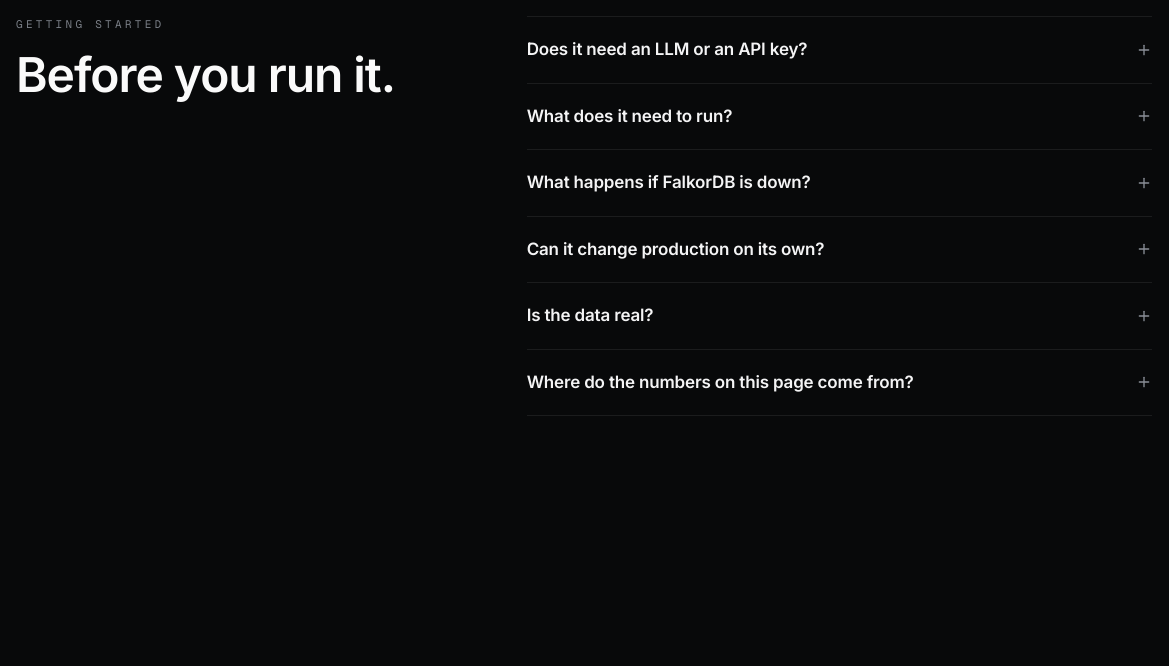
Faq › toggles each answer independently with aria-expanded, and labels each region by its question
Expected: the heading "Before you run it." is shown, [16, 44, 395, 104]
Step 1. Click the button "What does it need to run?" → {"x": 629, "y": 116}, box [527, 84, 1152, 149]
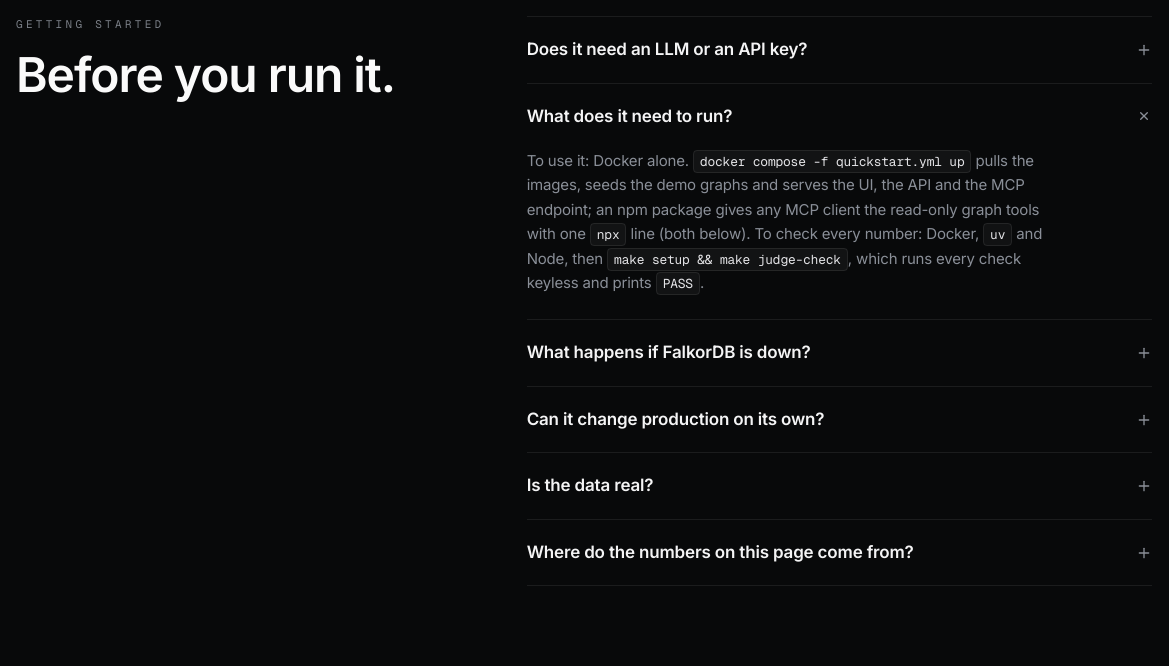
Result: the button "What does it need to run?" is expanded at [527, 84, 1152, 149]
Result: the element named "What does it need to run?" is shown at [527, 150, 1042, 295]
Step 2. Click the button "Is the data real?" → {"x": 590, "y": 485}, box [527, 453, 1152, 519]
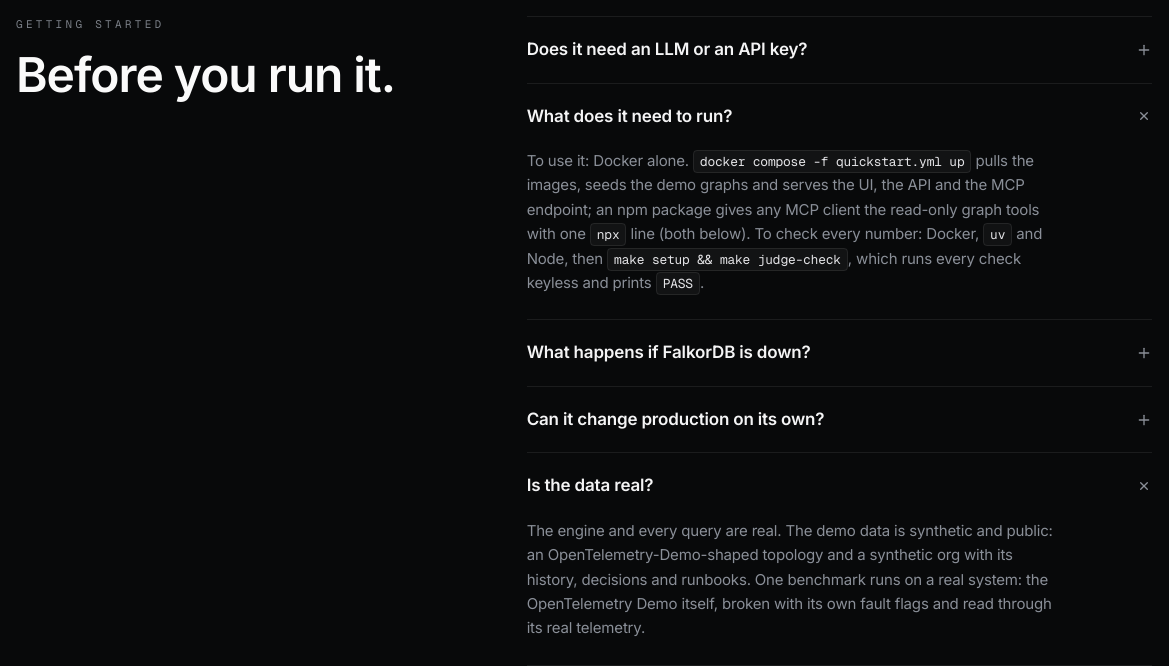
Result: the button "What does it need to run?" is expanded
Result: the button "Is the data real?" is expanded at [527, 453, 1152, 519]
Step 3. Click the button "What does it need to run?" → {"x": 629, "y": 116}, box [527, 84, 1152, 149]
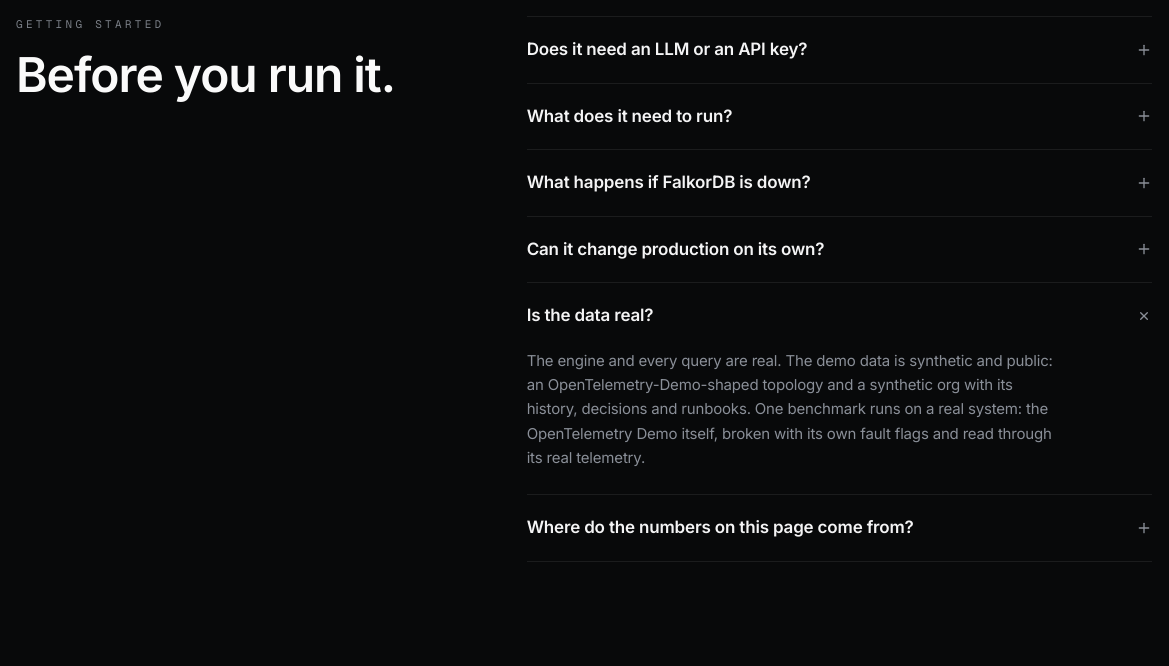
Result: the button "What does it need to run?" is collapsed at [527, 84, 1152, 149]
